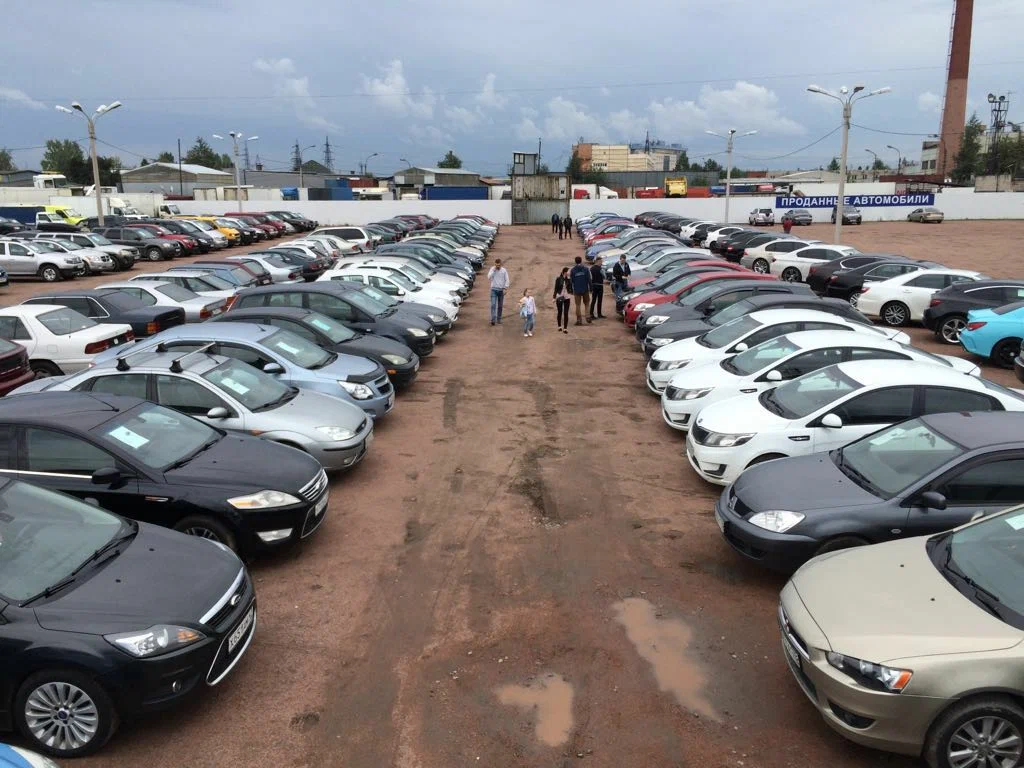Car: (0, 474, 258, 758), (777, 504, 1024, 768), (0, 391, 329, 557), (713, 410, 1024, 572), (5, 338, 374, 474), (685, 359, 1024, 486), (660, 329, 983, 432), (87, 322, 395, 419), (645, 308, 912, 396), (205, 307, 420, 389), (229, 282, 436, 358), (641, 294, 869, 357), (633, 280, 817, 344), (0, 304, 136, 379), (622, 271, 782, 327), (18, 289, 186, 342), (309, 279, 451, 340), (315, 268, 461, 323), (855, 268, 986, 328), (921, 279, 1024, 345), (329, 255, 469, 299), (615, 266, 736, 316), (94, 281, 228, 324), (825, 259, 944, 305), (347, 259, 464, 305), (959, 301, 1024, 368), (35, 232, 140, 272), (806, 253, 909, 293), (128, 272, 238, 308), (375, 243, 476, 282), (377, 251, 473, 292), (0, 237, 84, 282), (770, 244, 864, 283), (601, 240, 689, 278), (29, 237, 112, 277), (585, 230, 694, 260), (91, 227, 181, 262), (631, 260, 754, 285), (741, 239, 829, 273), (49, 195, 150, 224), (129, 219, 214, 253), (167, 264, 257, 293), (593, 237, 689, 264), (248, 248, 324, 282), (121, 224, 198, 257), (225, 254, 306, 285), (631, 252, 722, 279), (412, 239, 485, 272), (406, 230, 488, 259), (726, 234, 800, 264), (102, 192, 183, 219), (0, 336, 35, 398), (193, 260, 273, 287), (399, 235, 485, 260), (594, 231, 672, 257), (171, 217, 240, 246), (629, 248, 714, 271), (307, 226, 373, 254), (775, 182, 896, 197), (405, 241, 473, 267), (224, 211, 286, 237), (0, 205, 67, 229), (180, 219, 228, 251), (0, 742, 59, 768), (270, 245, 329, 268), (0, 187, 72, 205), (278, 241, 332, 264), (720, 232, 769, 257), (225, 216, 278, 239), (306, 235, 361, 257), (432, 227, 492, 247), (293, 237, 342, 261), (704, 226, 746, 253), (219, 217, 265, 241), (593, 228, 655, 245), (443, 225, 495, 245), (420, 185, 489, 200), (219, 219, 257, 245), (264, 210, 306, 233), (587, 224, 628, 247), (440, 220, 495, 237), (193, 186, 254, 201), (441, 223, 494, 239), (583, 220, 630, 238), (75, 215, 123, 232), (578, 217, 628, 233), (448, 230, 488, 250), (577, 216, 632, 230), (224, 188, 283, 201), (45, 206, 87, 224), (571, 183, 618, 199), (454, 217, 497, 234), (694, 225, 724, 249), (576, 213, 620, 229), (715, 231, 754, 249), (585, 222, 630, 237), (906, 207, 945, 224), (367, 223, 403, 241), (663, 218, 697, 237), (830, 204, 862, 224), (281, 211, 314, 230), (308, 187, 353, 200), (635, 211, 674, 226), (683, 223, 719, 239), (664, 175, 688, 198), (679, 220, 708, 238), (748, 207, 775, 226), (780, 209, 812, 225), (0, 215, 34, 230), (367, 228, 397, 244), (33, 173, 67, 187), (1013, 340, 1024, 383), (393, 215, 426, 229), (0, 216, 25, 234), (464, 216, 498, 229), (37, 223, 81, 233), (452, 214, 496, 224), (651, 214, 682, 228), (377, 221, 413, 232), (575, 212, 607, 224), (282, 187, 308, 201), (658, 217, 690, 228), (386, 218, 414, 230), (491, 185, 511, 200), (5, 230, 42, 238), (364, 225, 396, 233), (367, 230, 384, 245), (418, 214, 440, 225), (584, 230, 599, 246), (0, 265, 9, 288), (67, 186, 86, 196), (574, 188, 590, 199), (420, 216, 434, 228), (400, 219, 416, 229), (580, 228, 594, 237), (284, 222, 295, 233), (293, 212, 310, 219), (173, 214, 199, 218), (645, 217, 654, 226), (200, 214, 224, 217), (628, 224, 640, 229), (313, 220, 318, 229), (373, 239, 378, 248), (0, 235, 5, 237)
